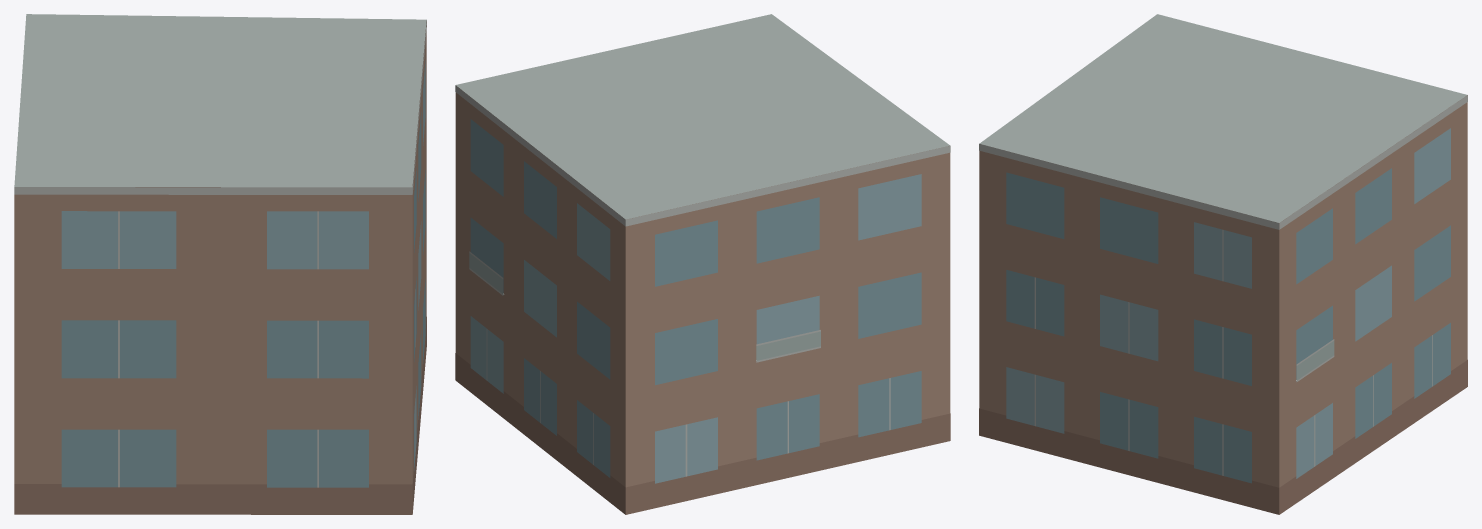
The model's file is survey-upis-32681047.glb.
3 renders of one model, left to right at view 1: azimuth 30°, elevation 25°; view 2: azimuth 150°, elevation 25°; view 3: azimuth 270°, elevation 25°, orthographic. The views are drawn at different scales.
Visible parts, largest first — view 1: survey-upis-32681047.tmp; view 2: survey-upis-32681047.tmp; view 3: survey-upis-32681047.tmp.
Boxes of the visible parts, box(x1,y1,x2,y2) form: survey-upis-32681047.tmp: box(14, 14, 426, 514); survey-upis-32681047.tmp: box(455, 14, 950, 514); survey-upis-32681047.tmp: box(979, 14, 1467, 514).
Bounding box in the file's own units: 15.83 × 10.3 × 15.63.
